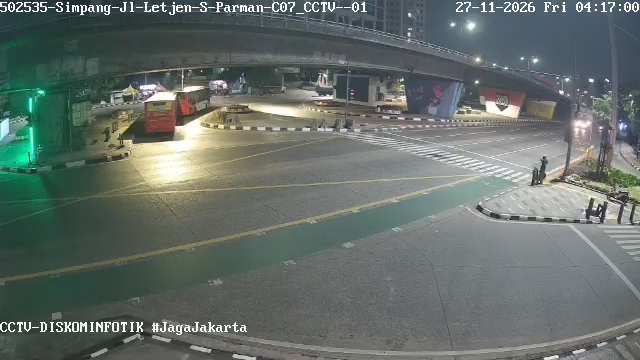Gerobak: (208, 80, 228, 95)
